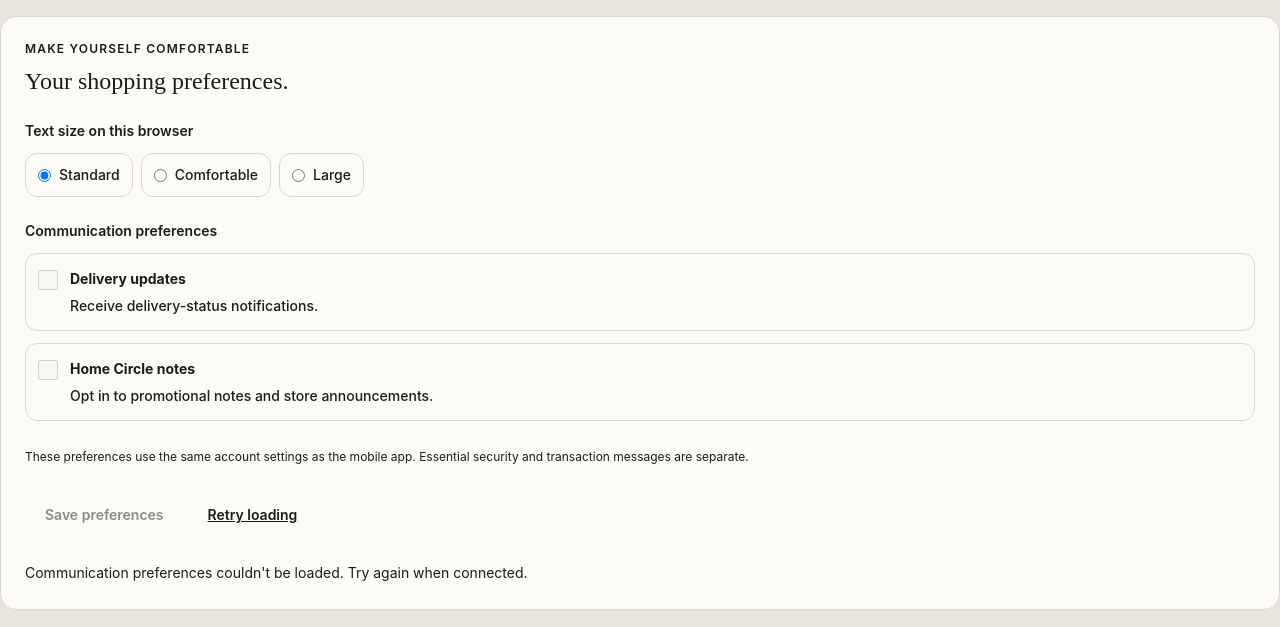
account preference journeys › offers retry without treating failed loading as saved defaults
Check: the button "Save preferences" is disabled, box [25,493,184,537]
Click the button "Retry loading".
click(252, 515)  # box [196,493,309,537]
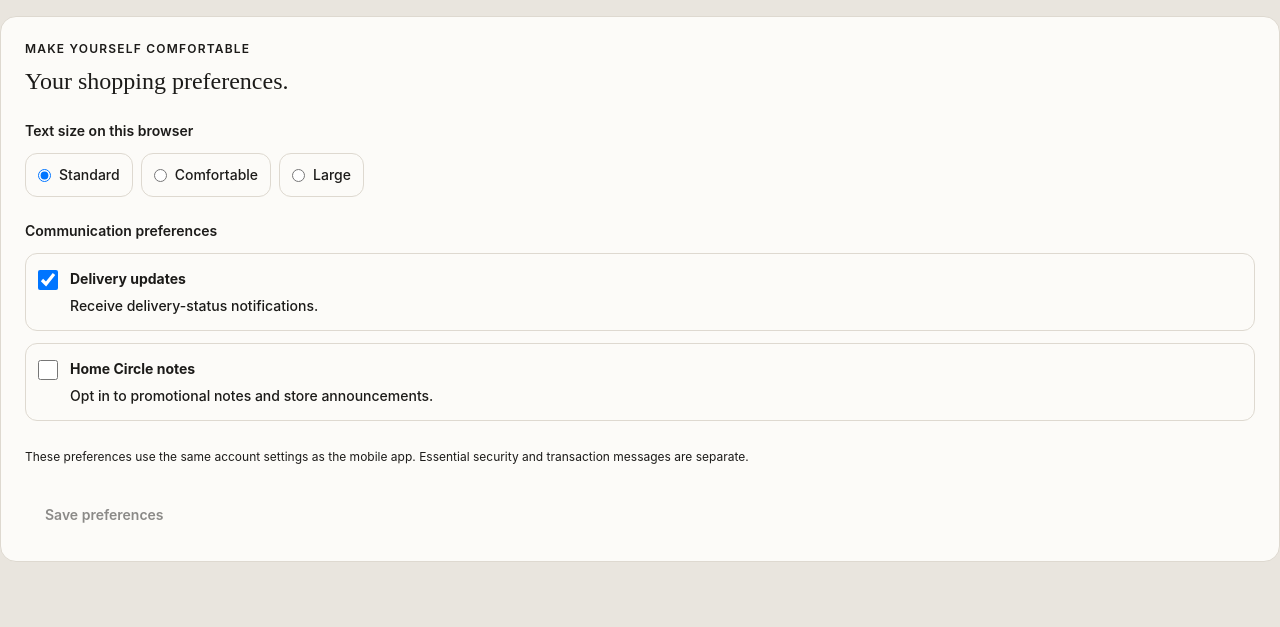
Check: the checkbox labelled "Delivery updates Receive delivery-status notifications." is checked, box [38,270,58,290]
